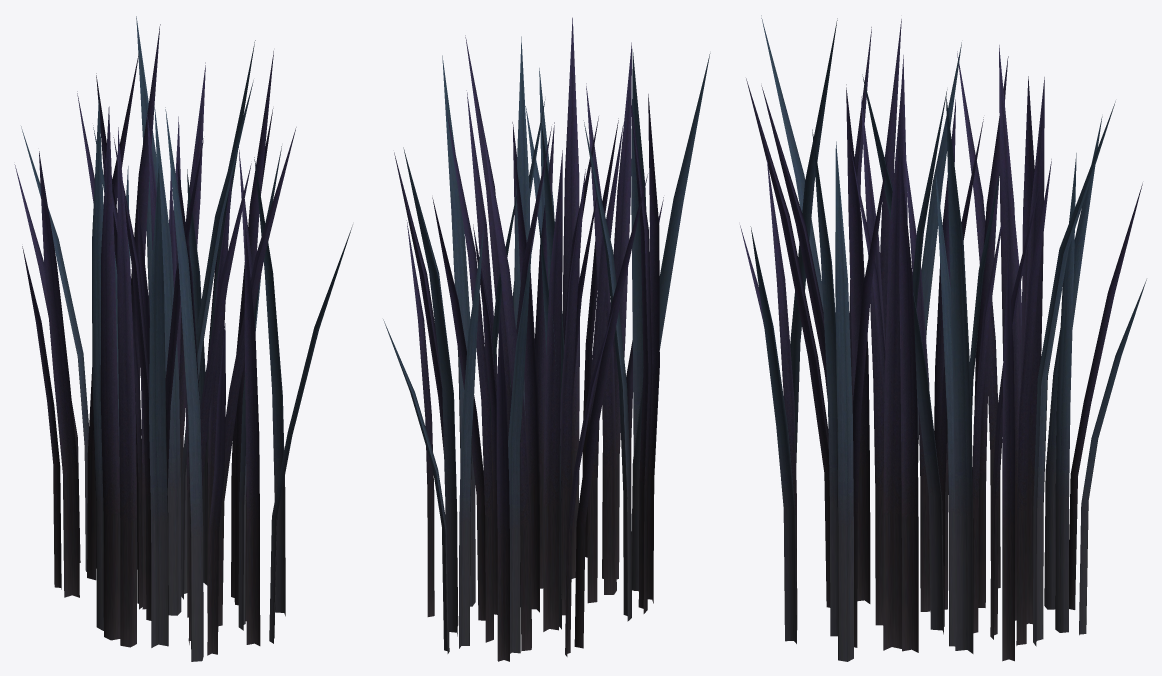
The model's file is blue_reeds.glb.
3 renders of one model, left to right at view 1: azimuth 30°, elevation 25°; view 2: azimuth 150°, elevation 25°; view 3: azimuth 270°, elevation 25°, orthographic. The views are drawn at different scales.
Visible parts, largest first — view 1: smd_mesh; view 2: smd_mesh; view 3: smd_mesh.
Boxes of the visible parts, x1,y1,x2,y2 form: smd_mesh: [14, 16, 352, 661]; smd_mesh: [383, 17, 710, 661]; smd_mesh: [740, 15, 1146, 661].
Size of the model in its own units: 0.0265 by 0.0628 by 0.0398.
Materials: 1 (1 with a texture image).
